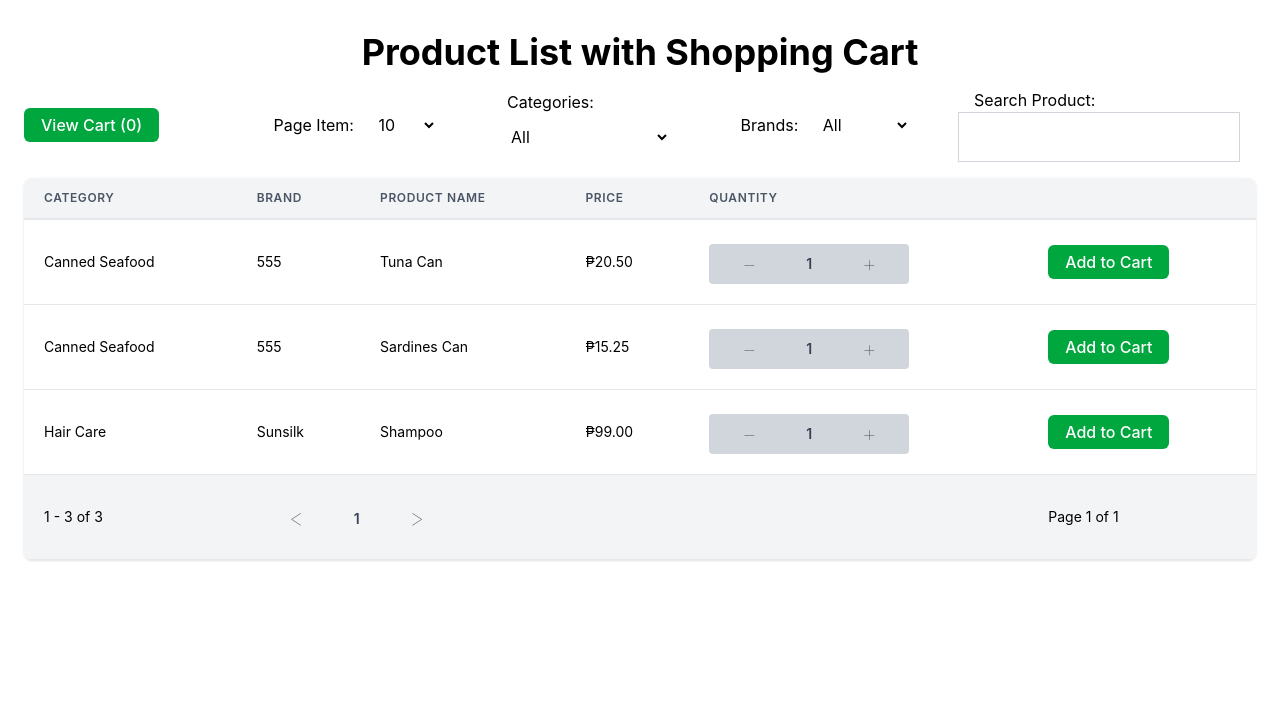
Test: lists products and filters by search
Expected: the text "Tuna Can" is shown, top-left (360, 219), bottom-right (566, 304)
Expected: the text "1 - 3 of 3" is shown, top-left (24, 474), bottom-right (237, 560)
Type "sun" into the search field labelled "Search Product:" at {"x": 1099, "y": 137}, box top-left (958, 112), bottom-right (1240, 162)
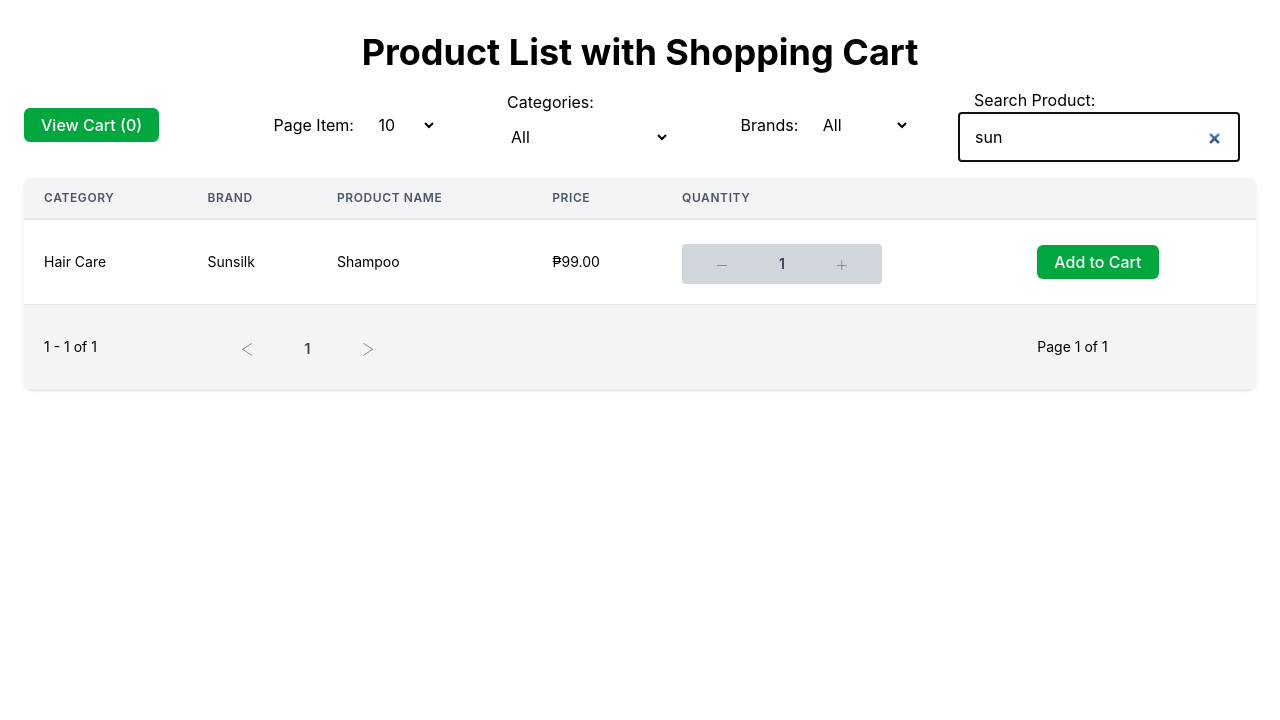
Expected: the text "Shampoo" is shown, top-left (317, 219), bottom-right (532, 304)
Now the text "Tuna Can" is gone
